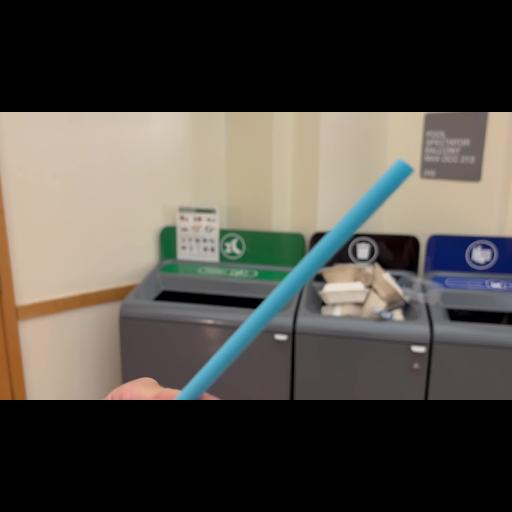straw: (156, 162, 412, 396)
